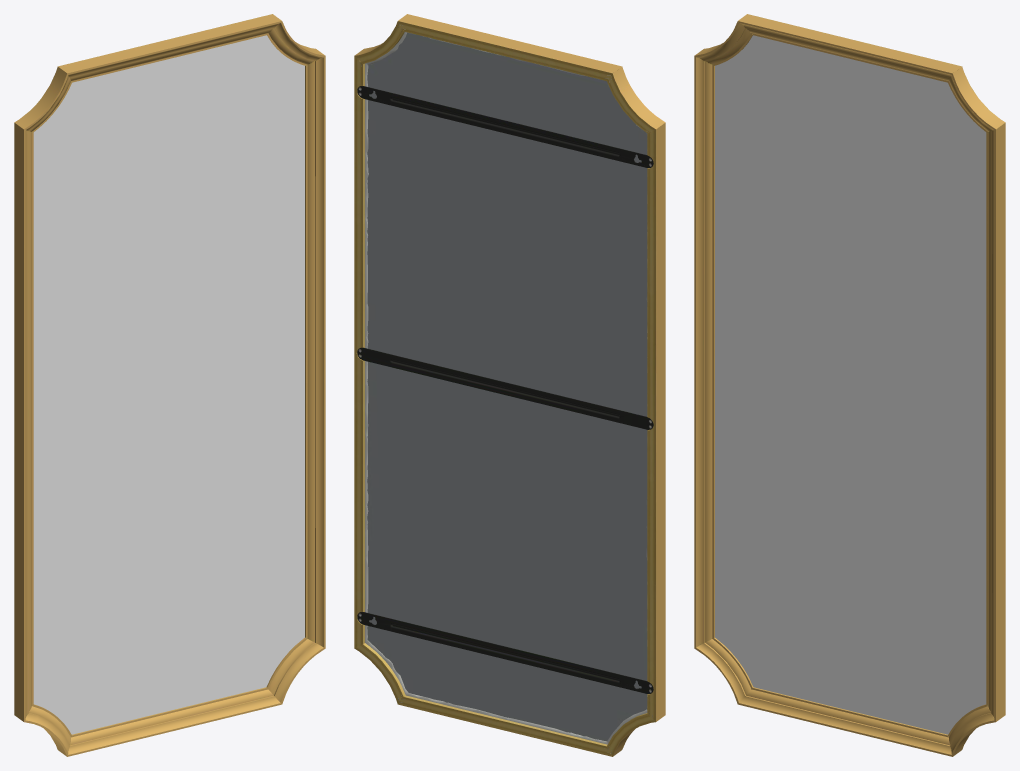
The model's file is svansele_lustro_70479291.glb.
3 views of the same model, side by side, from view 1: azimuth 30°, elevation 25°; view 2: azimuth 150°, elevation 25°; view 3: azimuth 330°, elevation 25° (orthographic).
Visible parts, largest first — view 1: svansele_lustro_70479291; view 2: svansele_lustro_70479291; view 3: svansele_lustro_70479291.
Boxes of the visible parts, x1,y1,x2,y2 form: svansele_lustro_70479291: (14,14,325,756); svansele_lustro_70479291: (354,14,665,756); svansele_lustro_70479291: (694,14,1005,756).
Size of the model in its own units: 0.73 by 1.58 by 0.0405.
2 materials, 2 textured.
